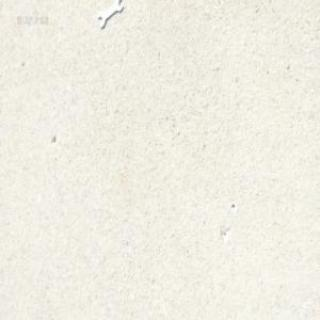Wrenchtrack_idkeyframe: (97, 2, 121, 30)
